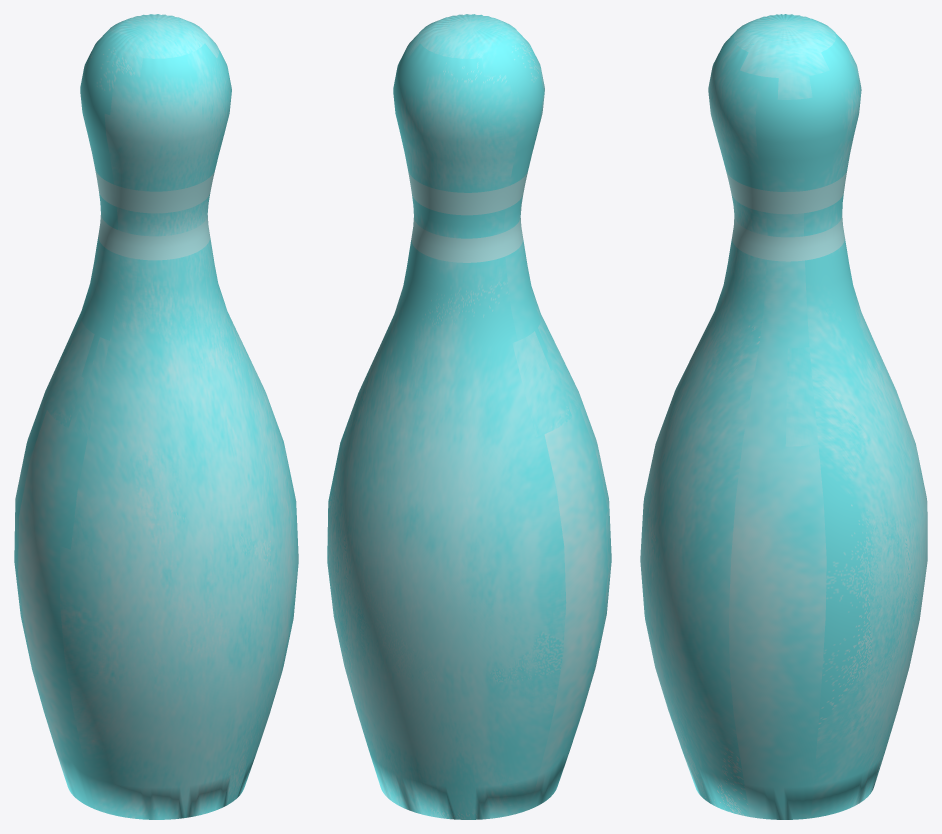
Rendered from Ice Pin (1).fbx.
3 renders of one model, left to right at view 1: azimuth 30°, elevation 25°; view 2: azimuth 150°, elevation 25°; view 3: azimuth 270°, elevation 25°, orthographic.
Visible parts, largest first — view 1: Ice Pin; view 2: Ice Pin; view 3: Ice Pin.
Part boxes in pixels (left/top/right/bottom): Ice Pin: left=14, top=14, right=298, bottom=819; Ice Pin: left=327, top=14, right=611, bottom=819; Ice Pin: left=640, top=14, right=927, bottom=819.
Bounding box in the file's own units: 131 × 387 × 133.
1 material, 1 textured.
